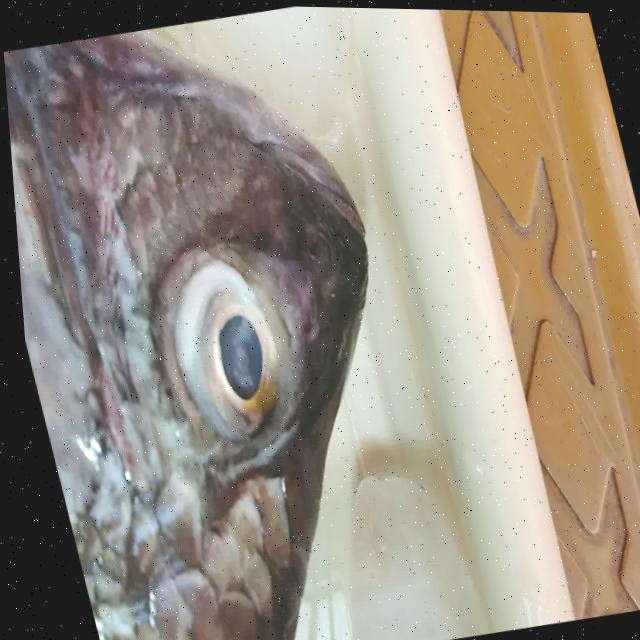Fresh: (121, 197, 327, 494)
